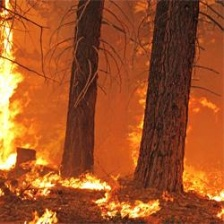fire: (34, 174, 156, 222), (2, 7, 18, 172), (210, 173, 224, 213)
